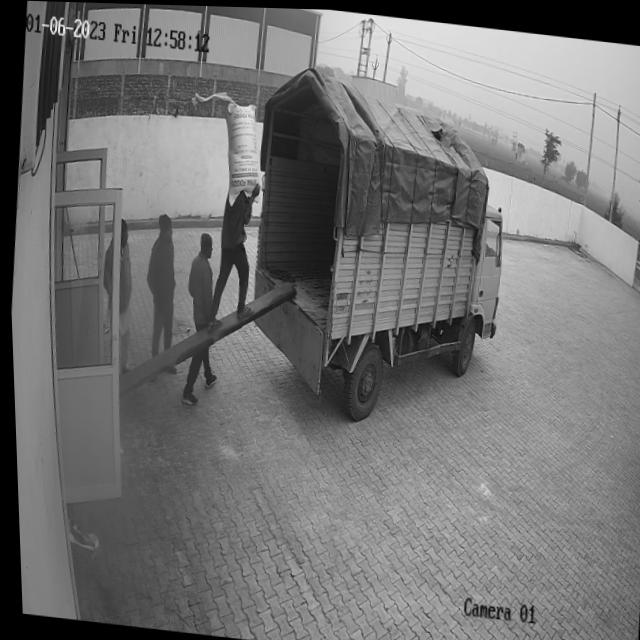sack: (212, 93, 265, 207)
